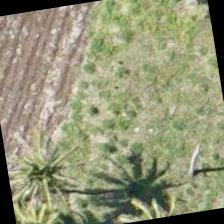Kelapa_Sawit: (2, 122, 98, 223)
